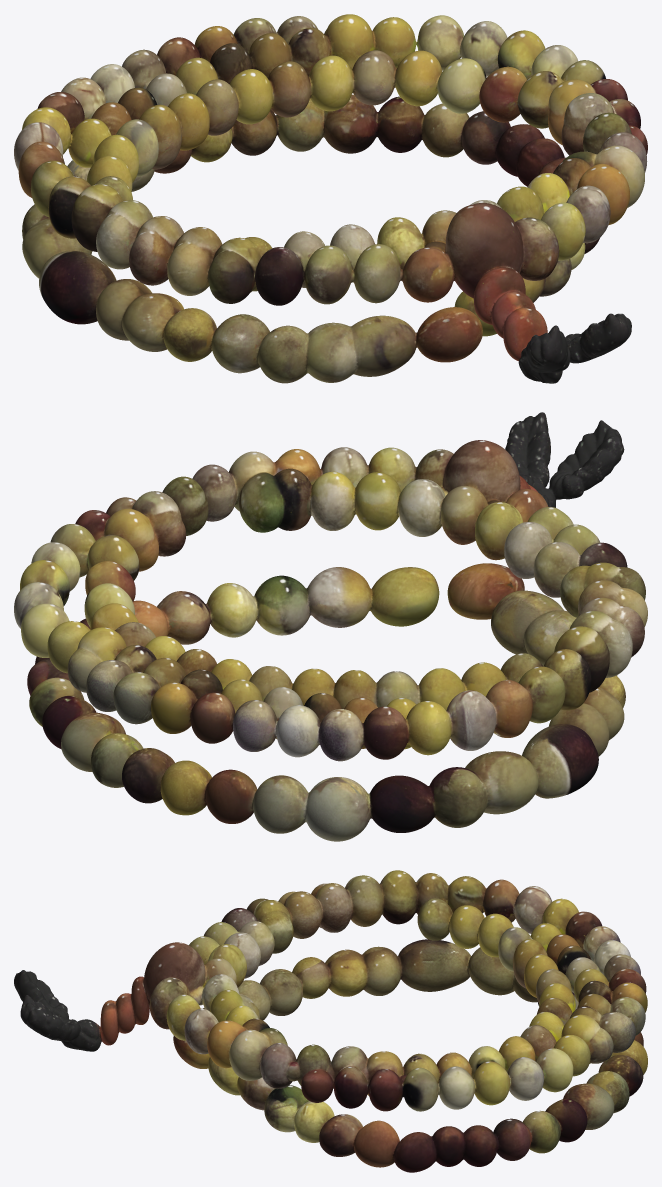
File: gem_agate.glb
3 views of the same model, one above another, from view 1: azimuth 30°, elevation 25°; view 2: azimuth 150°, elevation 25°; view 3: azimuth 270°, elevation 25° (orthographic). The views are drawn at different scales.
Parts seen in each view (by area): view 1: Mesh_0; view 2: Mesh_0; view 3: Mesh_0.
Part boxes in pixels (x1,y1,x2,y2): Mesh_0: (14,14,647,383); Mesh_0: (14,412,647,841); Mesh_0: (14,870,647,1172).
Size of the model in its own units: 0.0627 by 0.0191 by 0.08.
1 material, 1 textured.
